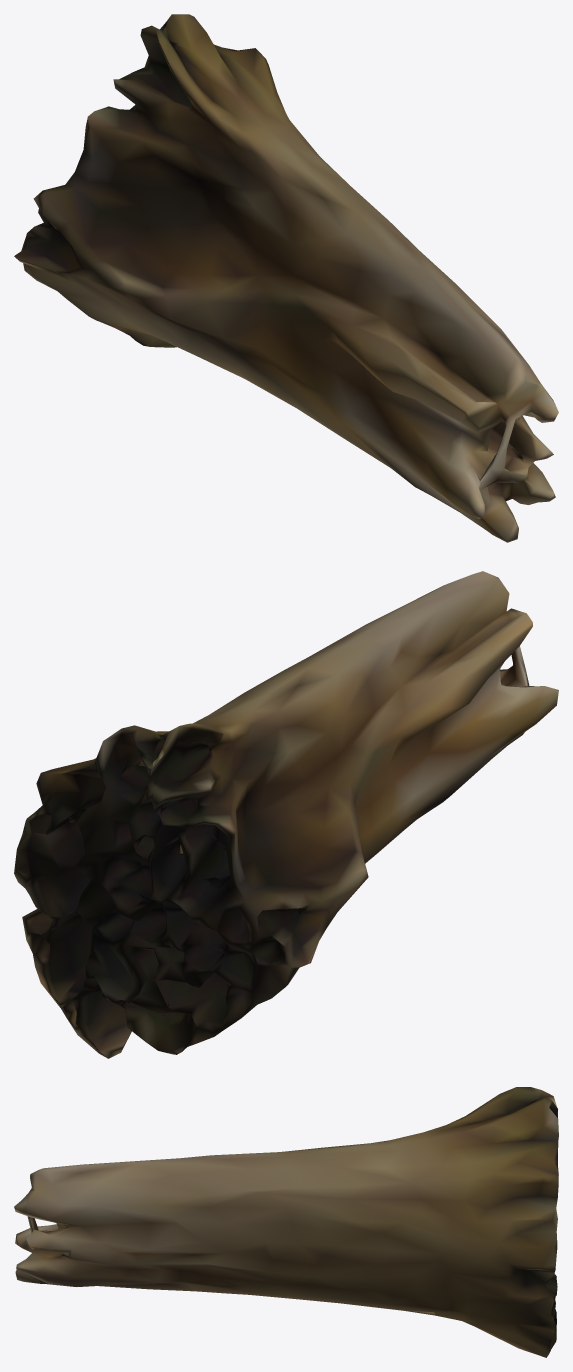
Rendered from stump-spruce.glb.
3 views of the same model, one above another, from view 1: azimuth 30°, elevation 25°; view 2: azimuth 150°, elevation 25°; view 3: azimuth 270°, elevation 25° (orthographic). The views are drawn at different scales.
Visible parts, largest first — view 1: stump-spruce; view 2: stump-spruce; view 3: stump-spruce.
Boxes of the visible parts, <box> form: stump-spruce: <box>14,14,558,542</box>; stump-spruce: <box>14,571,558,1058</box>; stump-spruce: <box>14,1087,558,1357</box>.
Size of the model in its own units: 0.4399 by 0.5017 by 1.
